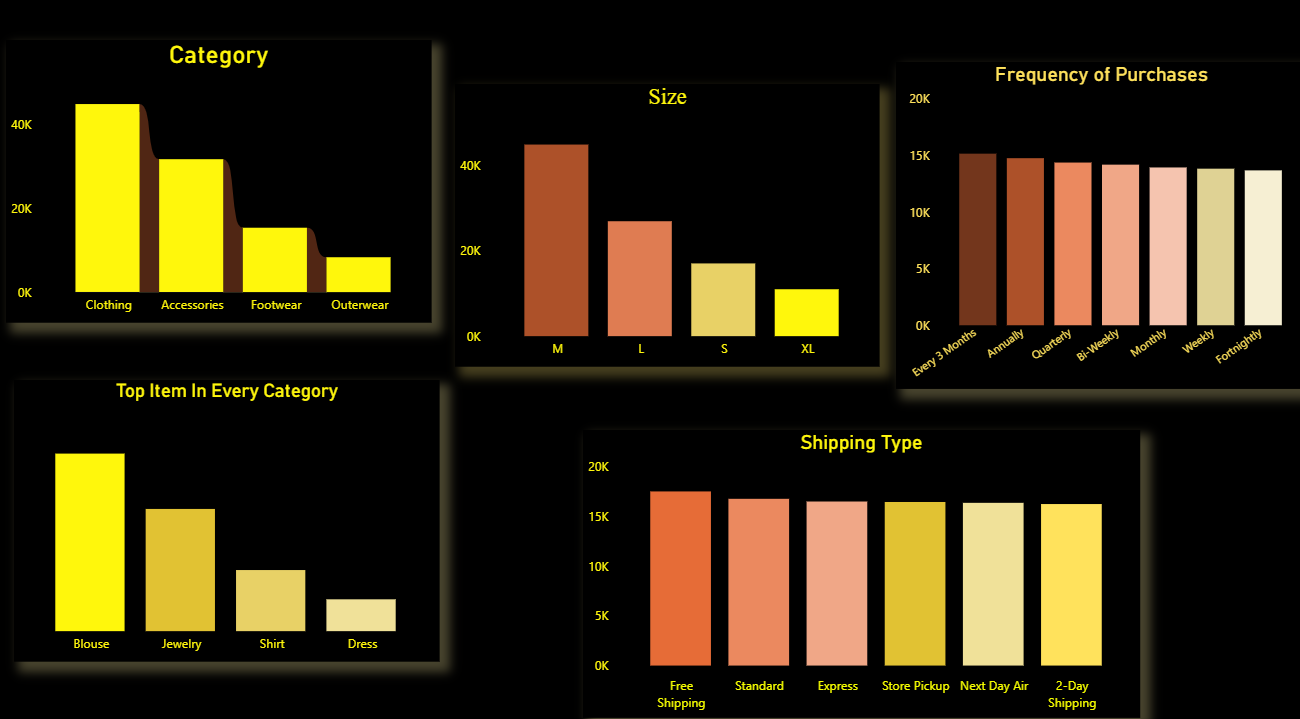

The dashboard page shown, as its layout file describes it:
{"tool":"powerbi","page":{"name":"Page 2","canvas":[1280,720],"ordinal":1},"visuals":[{"type":"columnChart","title":" Category","fields":{"Category":["sel  Q 6.Category"],"Y":["Sum(sel  Q 6.Revenue_Contribution_Pct)","Sum(sel  Q 6.Total_Items_Sold)"]},"box":[14.6,53.5,414.3,275.3],"z":0},{"type":"clusteredColumnChart","title":"Top Item In Every Category ","fields":{"Category":["sel  Q 7.Item_Purchased"],"Y":["Sum(sel  Q 7.Total_Sold)"]},"box":[22.4,384.2,414.3,274.3],"z":1000},{"type":"clusteredColumnChart","title":" Size","fields":{"Category":["sel  Q 8.Size"],"Y":["Sum(sel  Q 8.Total_Orders)"]},"box":[451.3,96.3,413.4,275.3],"z":2000},{"type":"columnChart","title":" Shipping Type","fields":{"Category":["sel Q11.Shipping_Type"],"Y":["Sum(sel Q11.Total_Usage)"]},"box":[575.8,432.8,541.8,280.1],"z":3000},{"type":"clusteredColumnChart","title":"Frequency of Purchases","fields":{"Category":["sel  Q13.Frequency_of_Purchases"],"Y":["Sum(sel  Q13.Total_Customers)"]},"box":[880.2,74.9,399.8,318.1],"z":4000}]}

Visuals, with their boxes in screenshot pixels (x1, y1, x2, y2), scaled from the page's 1280x720 canvas onto the 1300x719 screenshot:
" Category" columnChart: <region>15, 53, 436, 328</region>
"Top Item In Every Category " clusteredColumnChart: <region>23, 384, 444, 658</region>
" Size" clusteredColumnChart: <region>458, 96, 878, 371</region>
" Shipping Type" columnChart: <region>585, 432, 1135, 712</region>
"Frequency of Purchases" clusteredColumnChart: <region>894, 75, 1299, 392</region>
